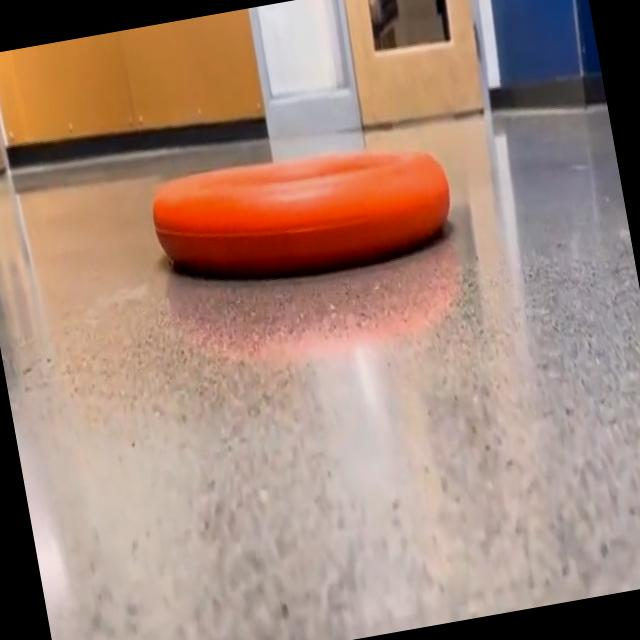note: (152, 151, 450, 273)
